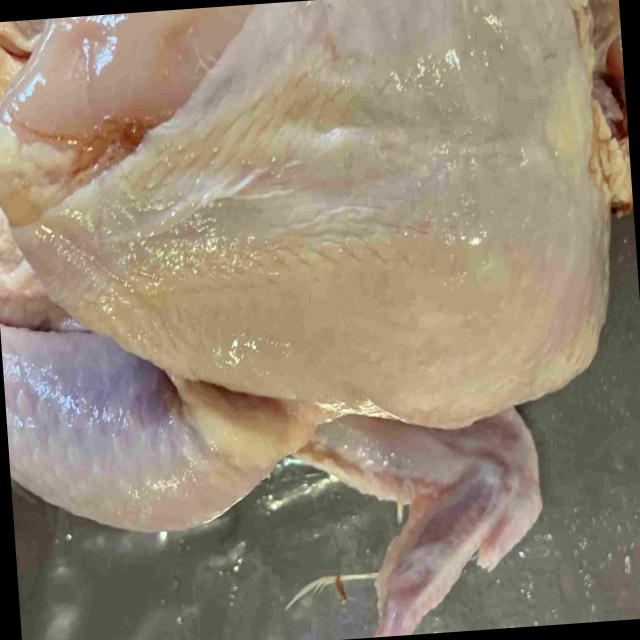breast: (0, 0, 612, 422)
leg: (0, 318, 317, 533)
neck: (584, 0, 632, 218)
wing: (285, 417, 542, 637)
